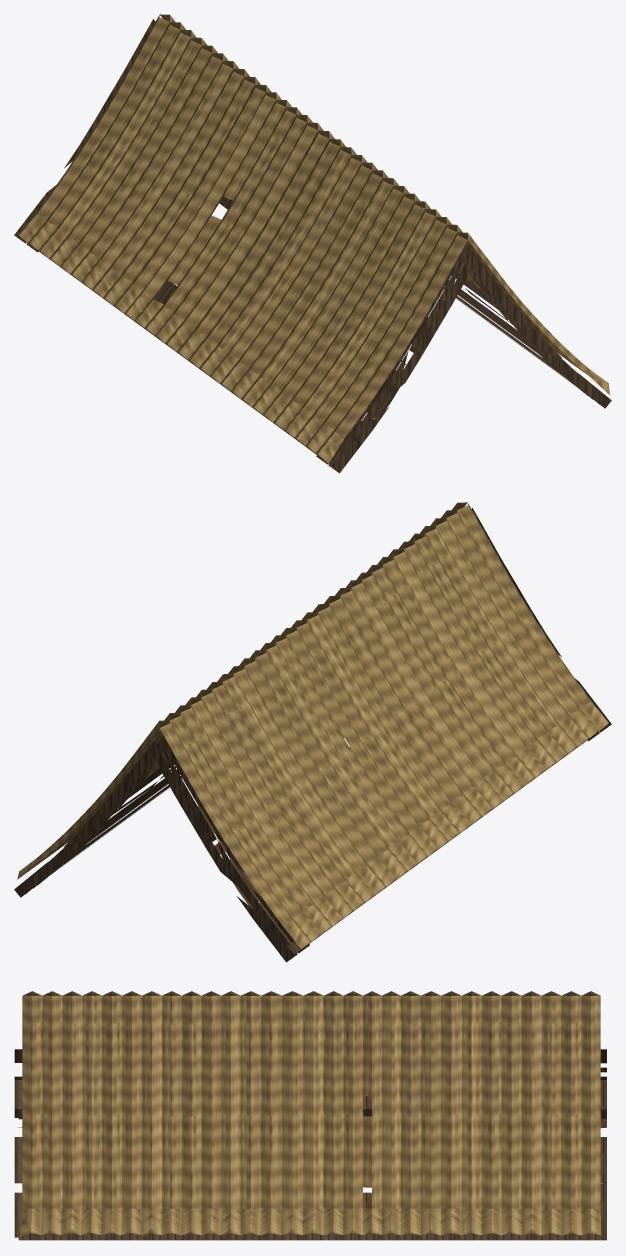
The model's file is Roof_Thatch_6x14.gltf.
The picture shows the model from 3 angles, top to bottom: view 1: azimuth 30°, elevation 25°; view 2: azimuth 150°, elevation 25°; view 3: azimuth 270°, elevation 25°; orthographic projection. The views are drawn at different scales.
Visible parts, largest first — view 1: Roof_Thatch_6x14; view 2: Roof_Thatch_6x14; view 3: Roof_Thatch_6x14.
Part boxes in pixels (x1,y1,x2,y2): Roof_Thatch_6x14: [14, 14, 611, 473]; Roof_Thatch_6x14: [14, 502, 611, 962]; Roof_Thatch_6x14: [14, 991, 606, 1240].
Size of the model in its own units: 8.25 by 5.42 by 15.66.
2 materials, 2 textured.
